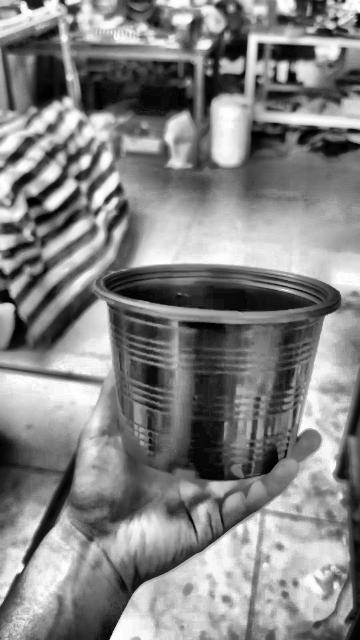pot: (90, 263, 339, 482)
